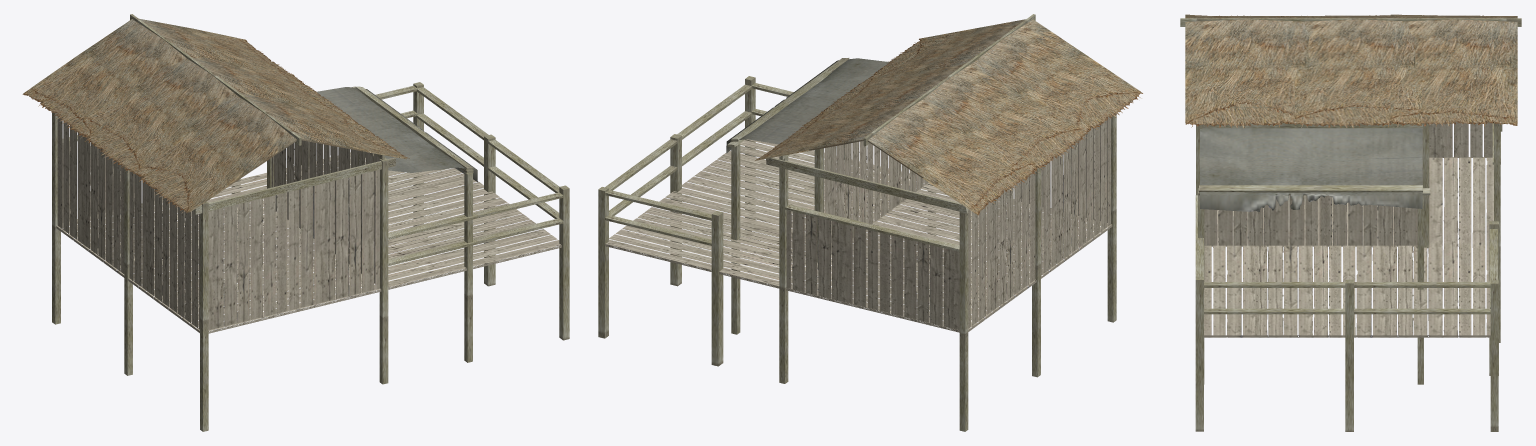
The model's file is coast-1-1.glb.
The picture shows the model from 3 angles, left to right: view 1: azimuth 30°, elevation 25°; view 2: azimuth 150°, elevation 25°; view 3: azimuth 270°, elevation 25°; orthographic projection.
Parts seen in each view (by area): view 1: coast-1-1; view 2: coast-1-1; view 3: coast-1-1.
Part boxes in pixels (bbox=[...]): coast-1-1: bbox=[22, 14, 569, 431]; coast-1-1: bbox=[598, 14, 1142, 431]; coast-1-1: bbox=[1180, 14, 1521, 431].
Bounding box in the file's own units: 12.85 × 8.62 × 9.5.
Materials: 4 (4 with a texture image).
